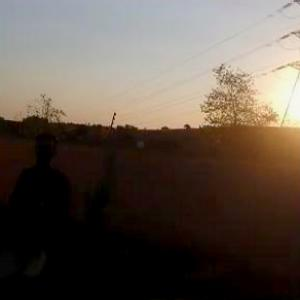follow: (5, 127, 80, 299)
